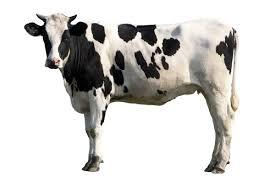cow: (24, 13, 239, 173)
